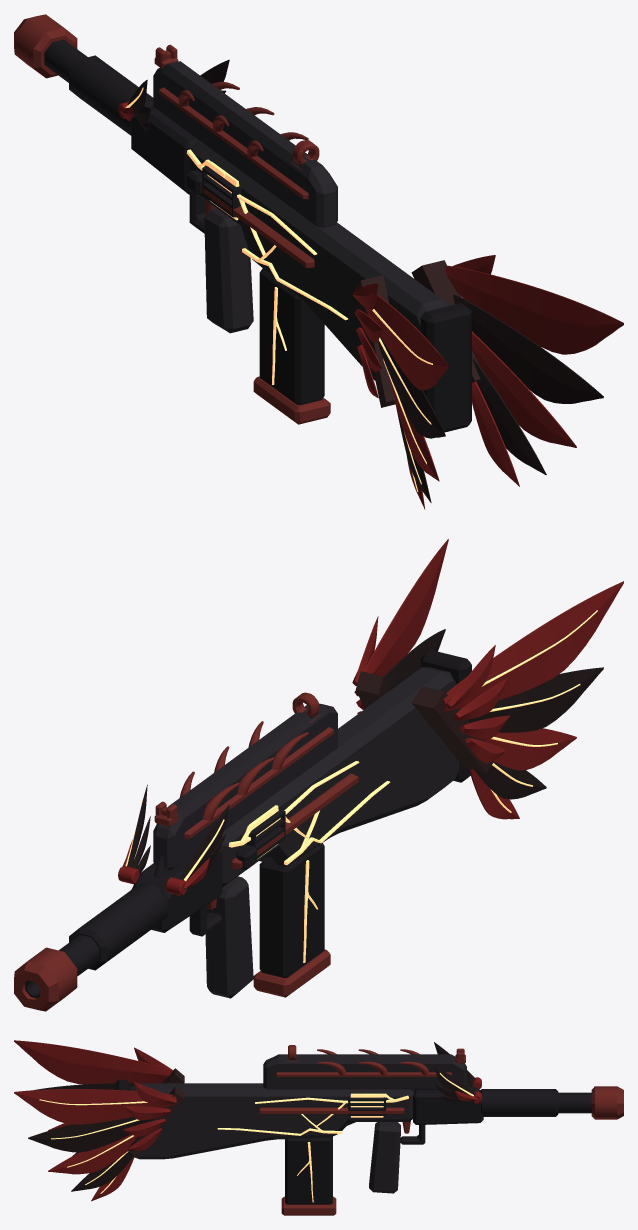
The model's file is w_burst@burst_infernal.glb.
3 renders of one model, top to bottom at view 1: azimuth 30°, elevation 25°; view 2: azimuth 150°, elevation 25°; view 3: azimuth 270°, elevation 25°, orthographic. The views are drawn at different scales.
Parts seen in each view (by area): view 1: stock_wzN, body_wzA, handle_wzA, stock_wzN.002, mag_wzB, grip_wzA, stock_wzB, barrel_wzB, fore_wzB, stock_wzN.003, handle_wzN, stock_wzN.004 (+8 smaller); view 2: body_wzA, stock_wzN, handle_wzA, mag_wzB, stock_wzN.002, barrel_wzB, grip_wzA, stock_wzN.004, stock_wzN.003, barrel_wzN, fore_wzB, handle_wzN (+10 smaller); view 3: body_wzA, stock_wzN, handle_wzA, stock_wzN.002, mag_wzB, barrel_wzB, grip_wzA, stock_wzN.004, fore_wzB, body_wzN.001, barrel_wzN, handle_wzN (+9 smaller).
Boxes of the visible parts, <box> form: stock_wzN: <box>359,265,623,509</box>; body_wzA: <box>190,140,449,380</box>; handle_wzA: <box>153,61,337,227</box>; stock_wzN.002: <box>377,294,603,502</box>; mag_wzB: <box>259,268,324,404</box>; grip_wzA: <box>204,208,253,333</box>; stock_wzB: <box>420,303,471,432</box>; barrel_wzB: <box>44,39,153,135</box>; fore_wzB: <box>131,106,198,194</box>; stock_wzN.003: <box>355,260,480,407</box>; handle_wzN: <box>154,44,319,199</box>; stock_wzN.004: <box>352,255,495,398</box>; body_wzA: <box>221,667,459,887</box>; stock_wzN: <box>363,539,623,819</box>; handle_wzA: <box>153,703,337,870</box>; mag_wzB: <box>259,843,324,977</box>; stock_wzN.002: <box>383,629,603,799</box>; barrel_wzB: <box>25,883,167,998</box>; grip_wzA: <box>205,876,253,998</box>; stock_wzN.004: <box>352,616,509,763</box>; stock_wzN.003: <box>355,671,493,772</box>; barrel_wzN: <box>14,947,77,1011</box>; fore_wzB: <box>131,848,222,932</box>; handle_wzN: <box>154,692,333,839</box>; body_wzA: <box>129,1083,413,1159</box>; stock_wzN: <box>14,1040,176,1201</box>; handle_wzA: <box>263,1054,466,1090</box>; stock_wzN.002: <box>28,1083,152,1191</box>; mag_wzB: <box>285,1136,332,1204</box>; barrel_wzB: <box>479,1089,591,1116</box>; grip_wzA: <box>369,1122,400,1193</box>; stock_wzN.004: <box>123,1047,176,1150</box>; fore_wzB: <box>413,1085,483,1124</box>; body_wzN.001: <box>217,1093,408,1135</box>; barrel_wzN: <box>591,1086,623,1119</box>; handle_wzN: <box>276,1045,465,1076</box>.
Size of the model in its own units: 0.2945 by 0.4393 by 1.47.
